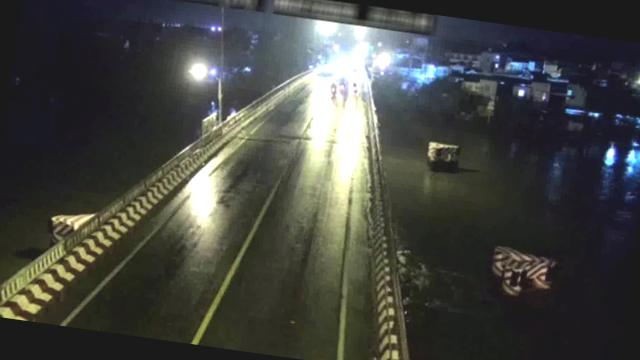Bike: (328, 80, 338, 99), (337, 76, 348, 92), (350, 81, 360, 95)
